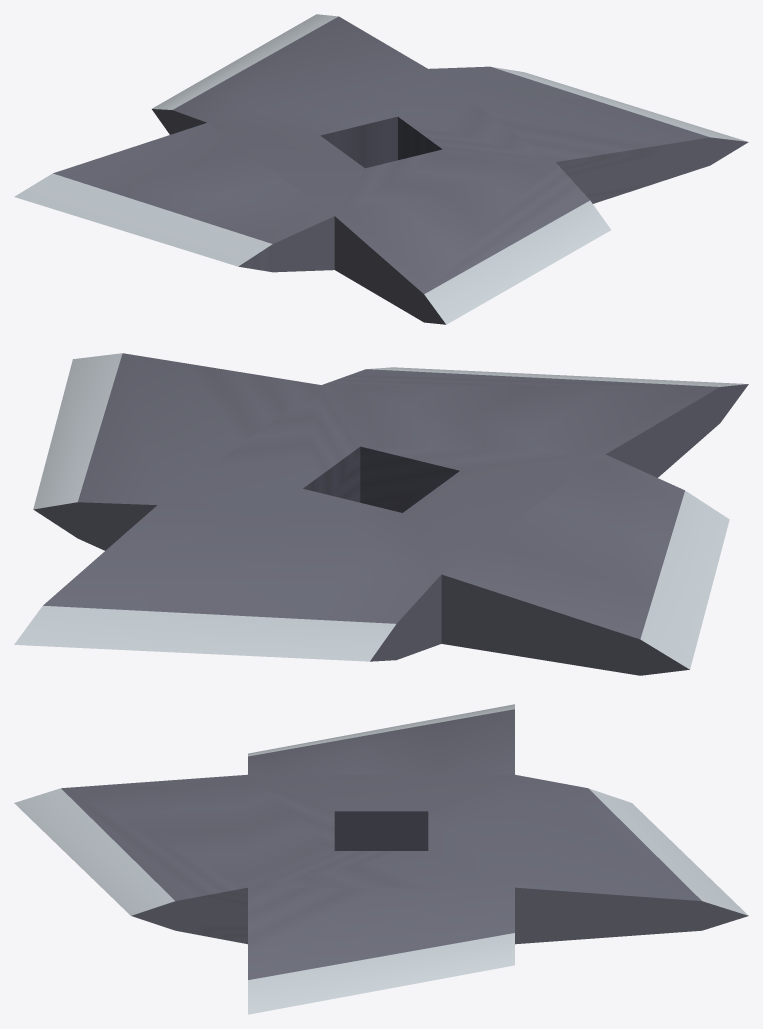
The model's file is Phitieu.fbx.
3 renders of one model, top to bottom at view 1: azimuth 30°, elevation 25°; view 2: azimuth 150°, elevation 25°; view 3: azimuth 270°, elevation 25°, orthographic. The views are drawn at different scales.
Visible parts, largest first — view 1: Phitieu; view 2: Phitieu; view 3: Phitieu.
Part boxes in pixels (x1=…): Phitieu: x1=14, y1=14, x2=748, y2=324; Phitieu: x1=14, y1=353, x2=748, y2=675; Phitieu: x1=14, y1=704, x2=748, y2=1014.
Bounding box in the file's own units: 275 × 23.38 × 275.
